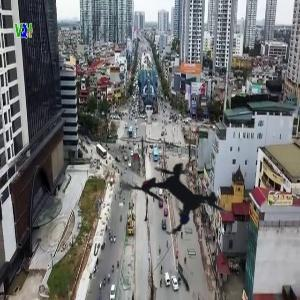drone: (97, 116, 258, 277)
